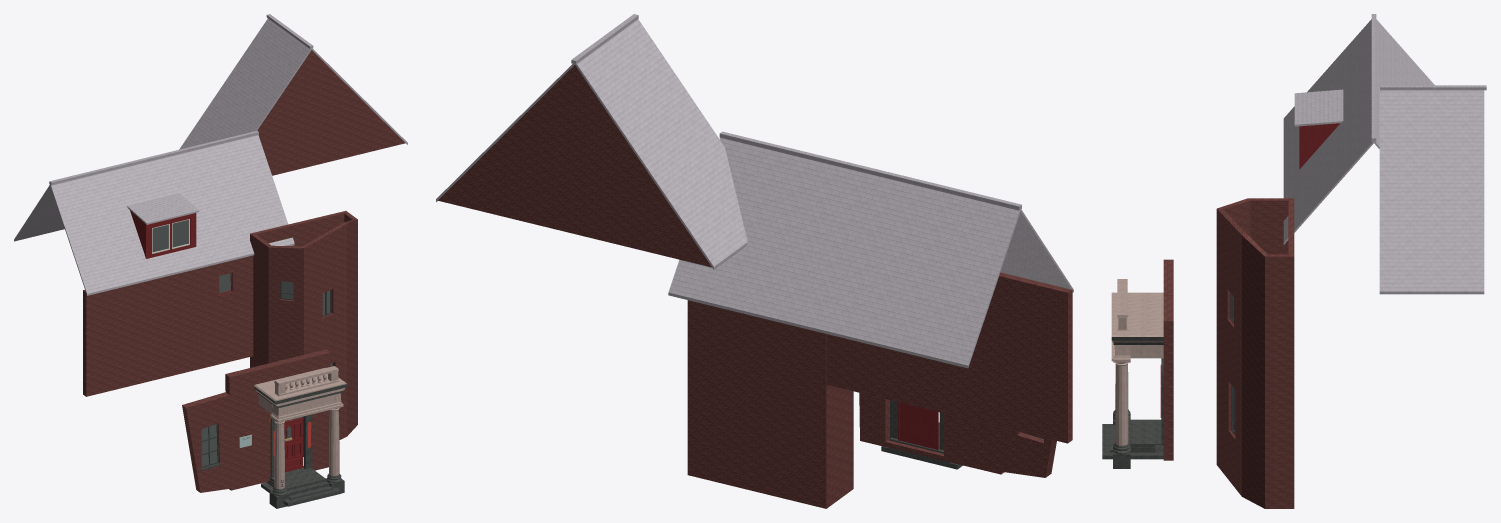
File: lod-source.glb
The picture shows the model from 3 angles, left to right: view 1: azimuth 30°, elevation 25°; view 2: azimuth 150°, elevation 25°; view 3: azimuth 270°, elevation 25°; orthographic projection. The views are drawn at different scales.
Visible parts, largest first — view 1: 新华路329弄32号乙花园住宅双柱门廊; view 2: 新华路329弄32号乙花园住宅双柱门廊; view 3: 新华路329弄32号乙花园住宅双柱门廊.
Part boxes in pixels (x1,y1,x2,y2): 新华路329弄32号乙花园住宅双柱门廊: (14, 14, 407, 508); 新华路329弄32号乙花园住宅双柱门廊: (436, 14, 1073, 508); 新华路329弄32号乙花园住宅双柱门廊: (1102, 14, 1486, 508).
Bounding box in the file's own units: 15.99 × 14.81 × 12.04.
Materials: 18 (5 with a texture image).
